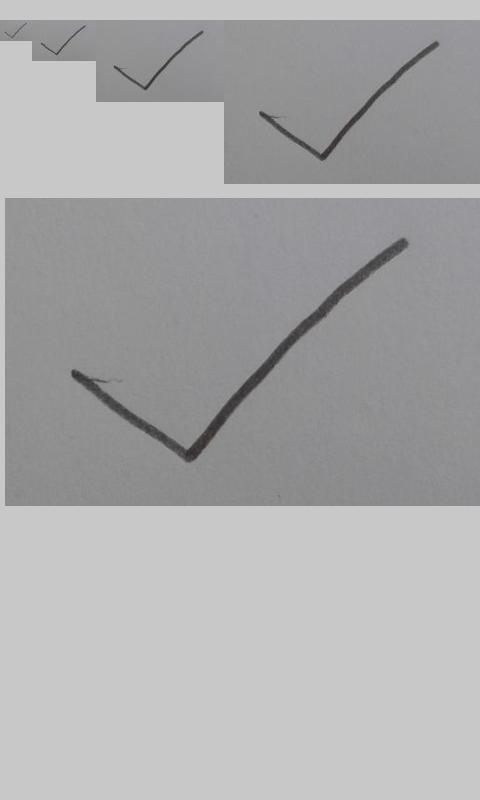check_box: (73, 236, 407, 464), (259, 41, 439, 161), (113, 30, 204, 90), (41, 25, 86, 55), (4, 22, 26, 39)
